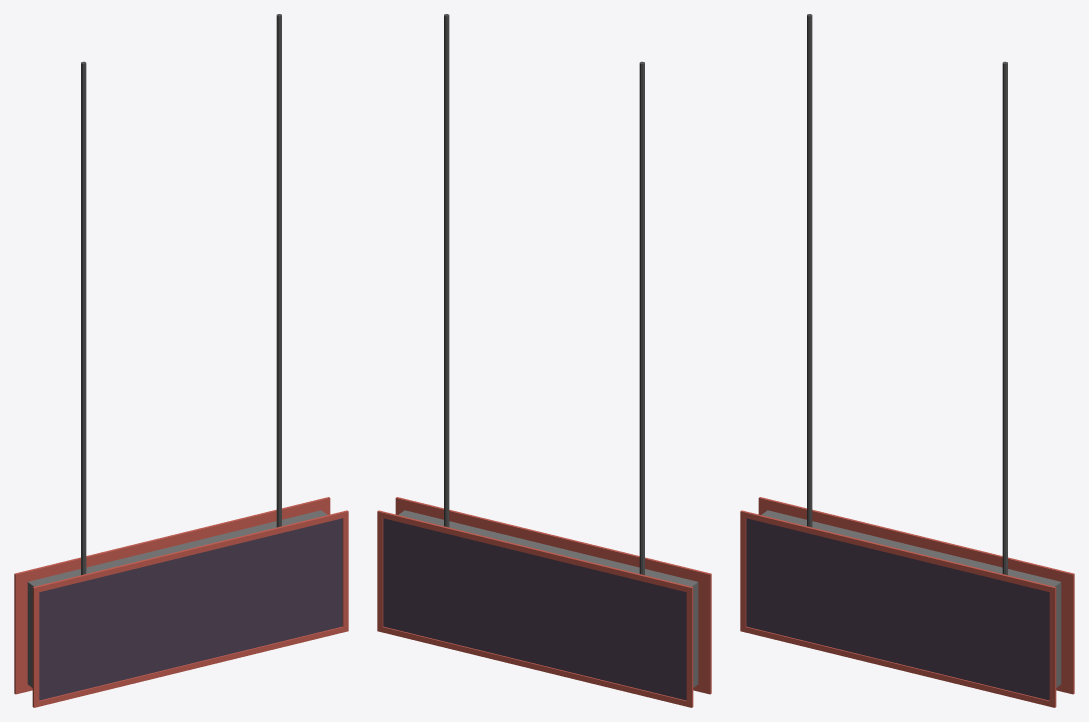
File: Sign.fbx
3 views of the same model, side by side, from view 1: azimuth 30°, elevation 25°; view 2: azimuth 150°, elevation 25°; view 3: azimuth 330°, elevation 25° (orthographic).
Visible parts, largest first — view 1: Sign; view 2: Sign; view 3: Sign.
Part boxes in pixels (box(x1,y1,x2,y2)): Sign: box(14, 14, 348, 707); Sign: box(377, 14, 711, 707); Sign: box(740, 14, 1074, 707).
Size of the model in its own units: 1285 by 2434 by 140.
